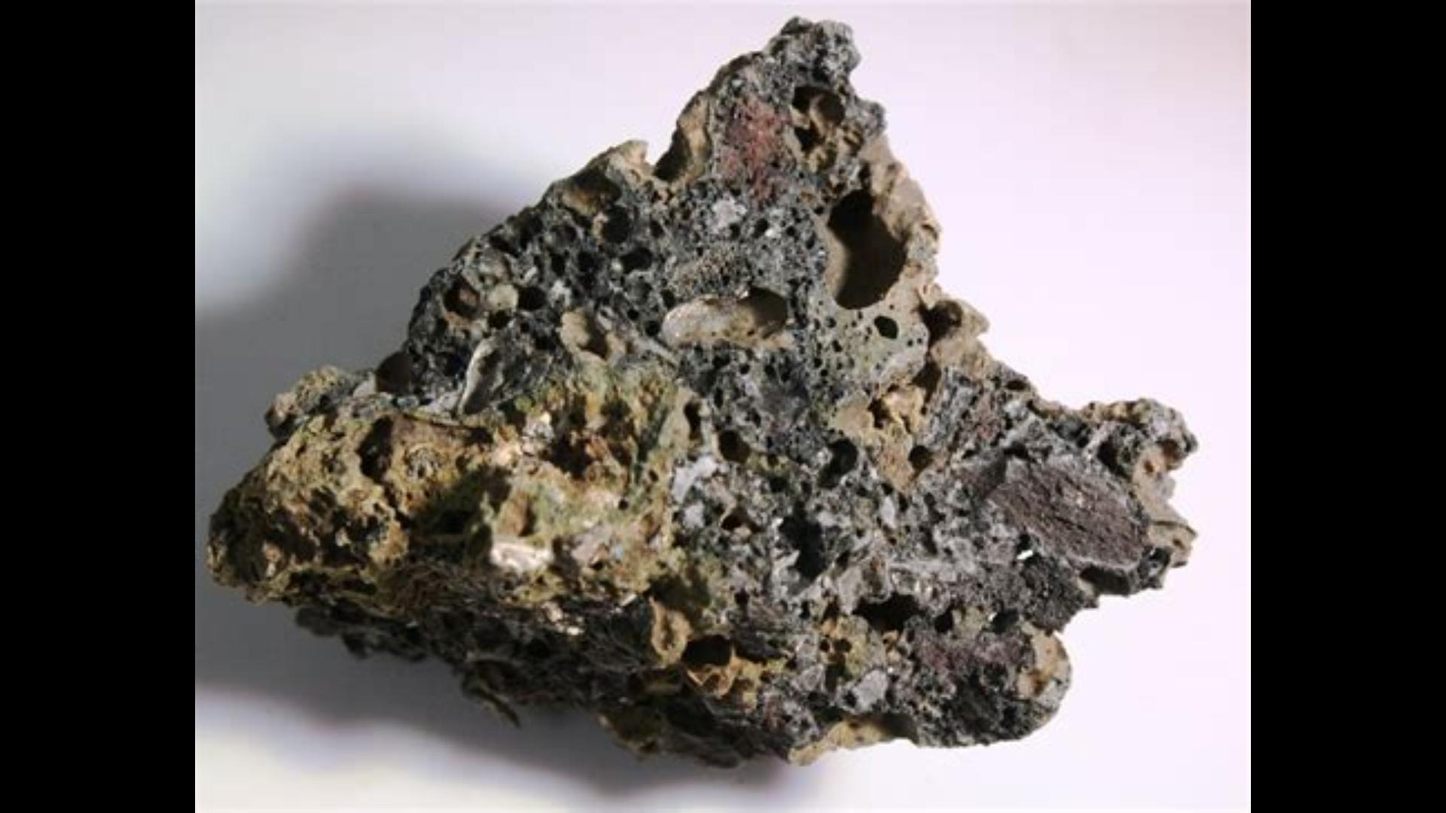rock: (208, 20, 1193, 751)
